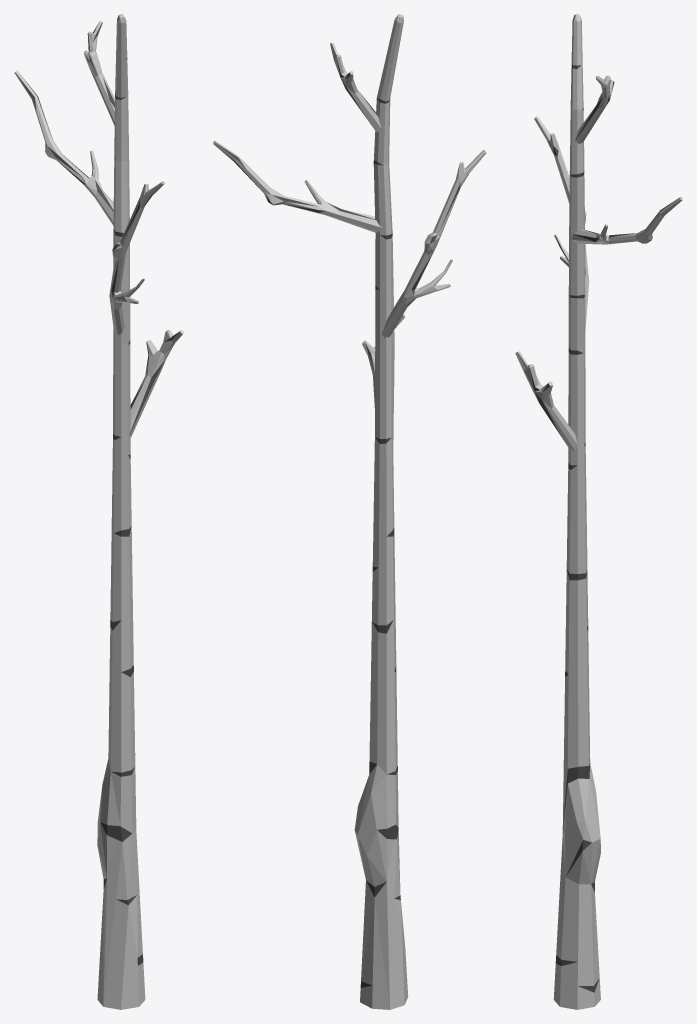
Rendered from mesh_tree_birch_01_dead.fbx.
The picture shows the model from 3 angles, left to right: view 1: azimuth 90°, elevation 25°; view 2: azimuth 150°, elevation 25°; view 3: azimuth 270°, elevation 25°; orthographic projection.
Parts seen in each view (by area): view 1: mesh_tree_birch_01_dead_LOD0; view 2: mesh_tree_birch_01_dead_LOD0; view 3: mesh_tree_birch_01_dead_LOD0.
Boxes of the visible parts, x1=… form: mesh_tree_birch_01_dead_LOD0: x1=14, y1=14, x2=184, y2=1009; mesh_tree_birch_01_dead_LOD0: x1=213, y1=14, x2=486, y2=1009; mesh_tree_birch_01_dead_LOD0: x1=515, y1=14, x2=682, y2=1009.
Size of what is drawn, in the model's own units: 1.33 by 6.25 by 0.9722.
